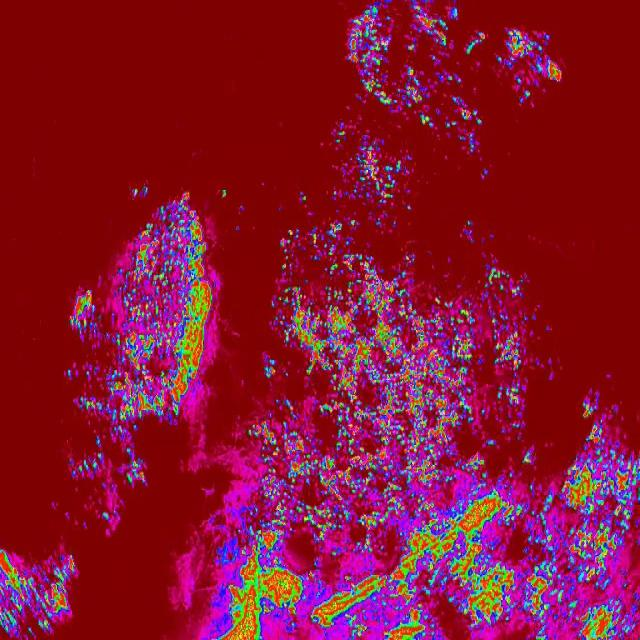fire: (257, 236, 524, 640), (117, 186, 222, 417), (64, 278, 148, 537), (570, 391, 640, 640), (343, 0, 454, 110), (327, 132, 417, 232), (208, 479, 257, 640), (524, 472, 570, 640), (0, 546, 81, 638), (492, 25, 564, 105)
